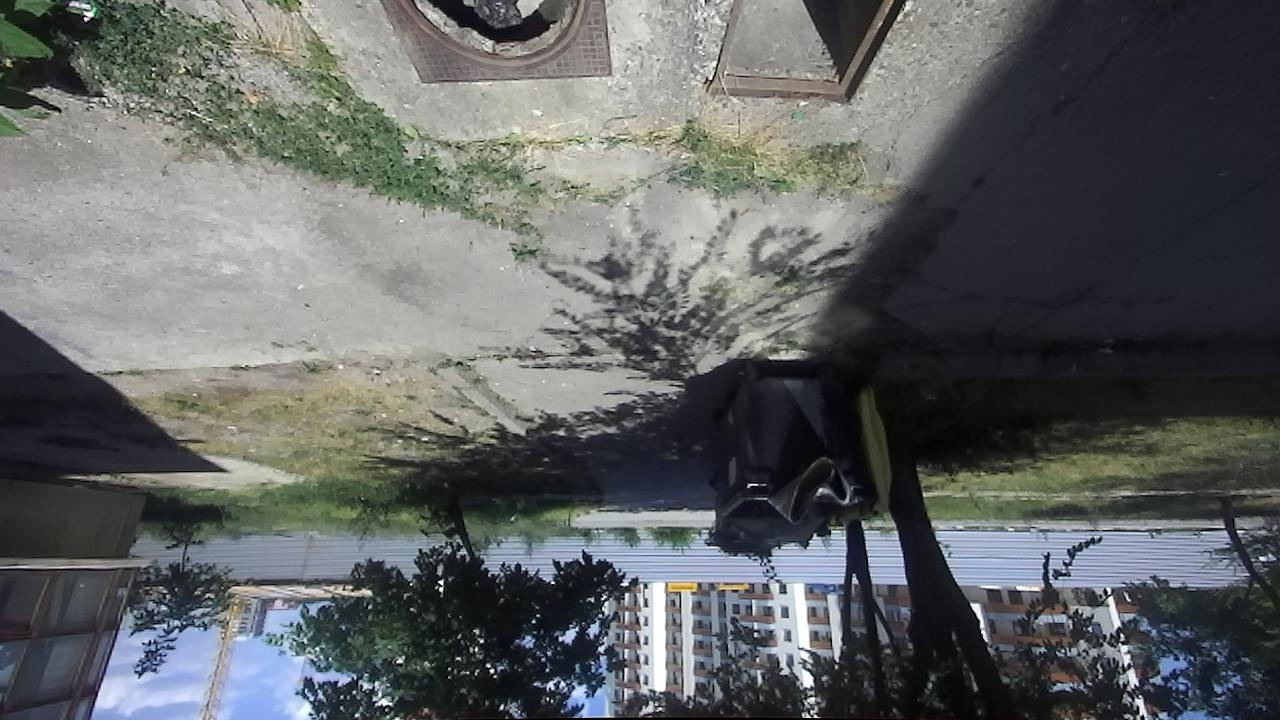drain: (704, 0, 903, 107), (387, 0, 595, 68)
